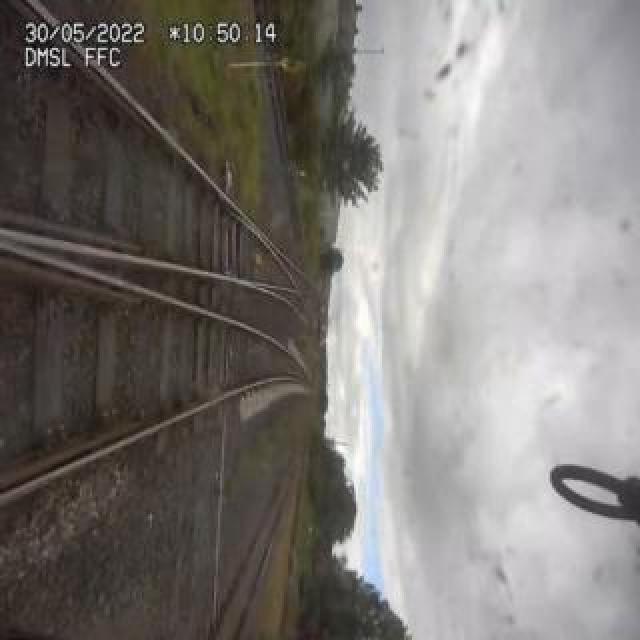rusted-track: (0, 257, 144, 325)
